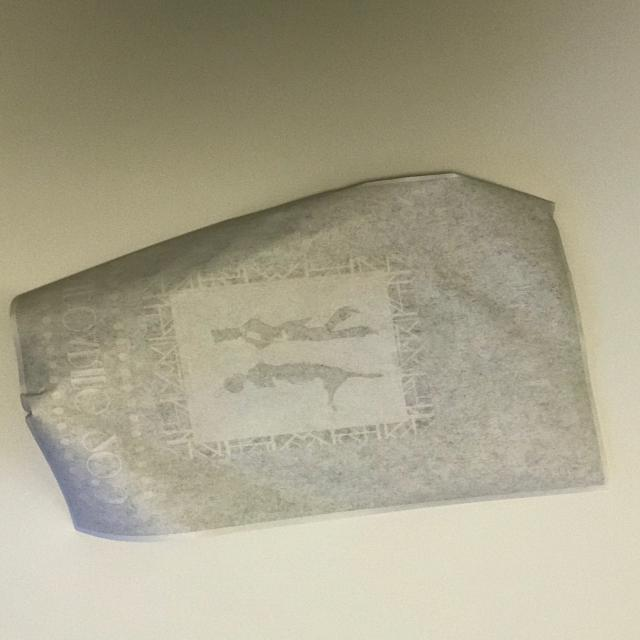paper: (9, 171, 608, 542)
